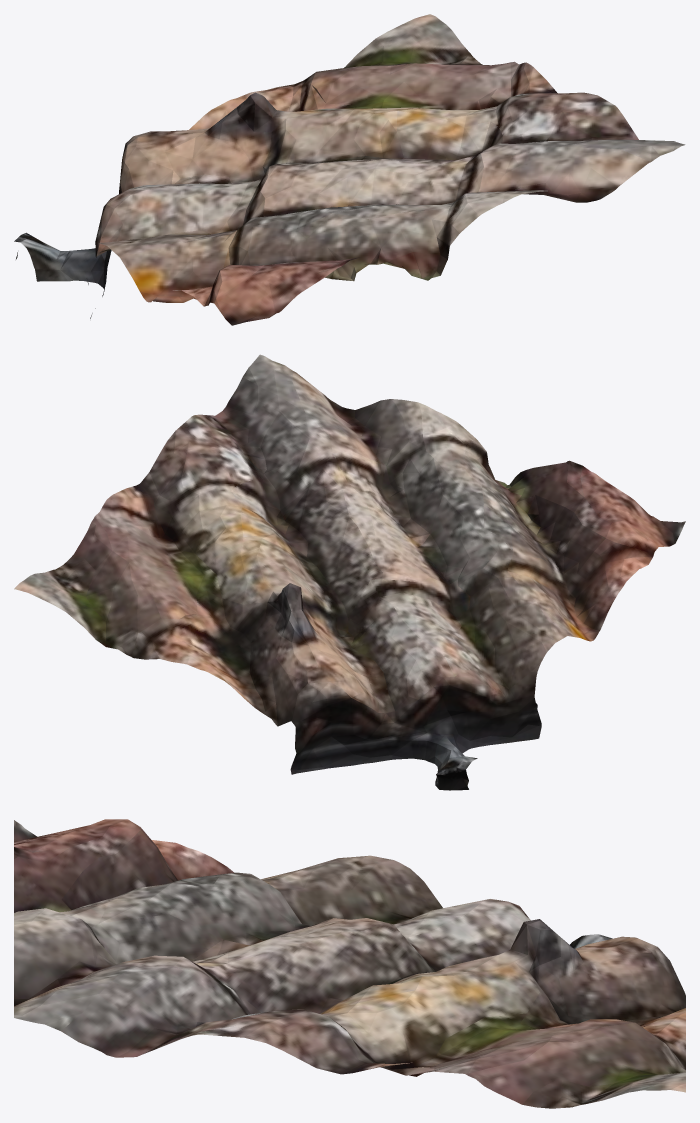
3 renders of one model, top to bottom at view 1: azimuth 30°, elevation 25°; view 2: azimuth 150°, elevation 25°; view 3: azimuth 270°, elevation 25°, orthographic. The views are drawn at different scales.
Size of the model in its own units: 0.8373 by 0.3243 by 0.8374.
3 materials, 3 textured.
